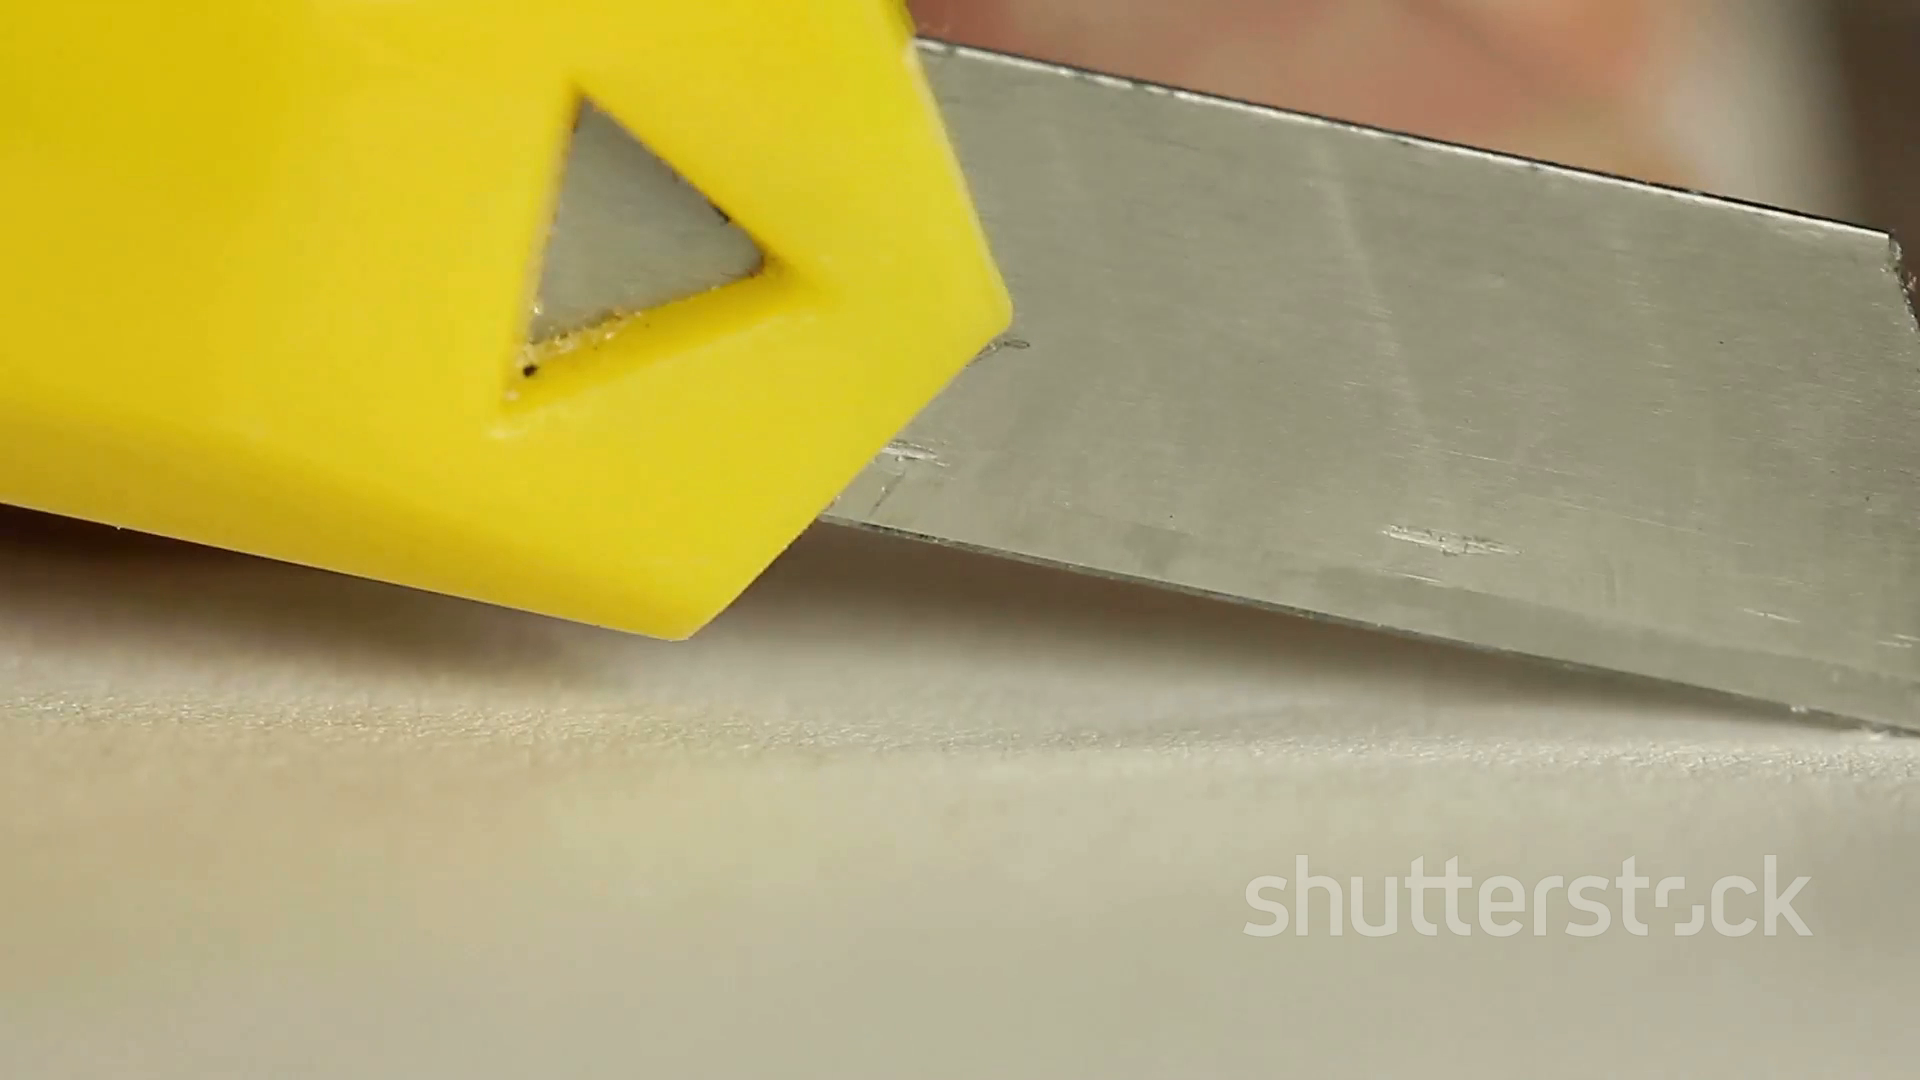cortante: (819, 32, 1920, 731)
